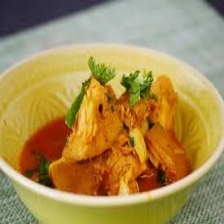sabzi: (14, 55, 193, 201)
